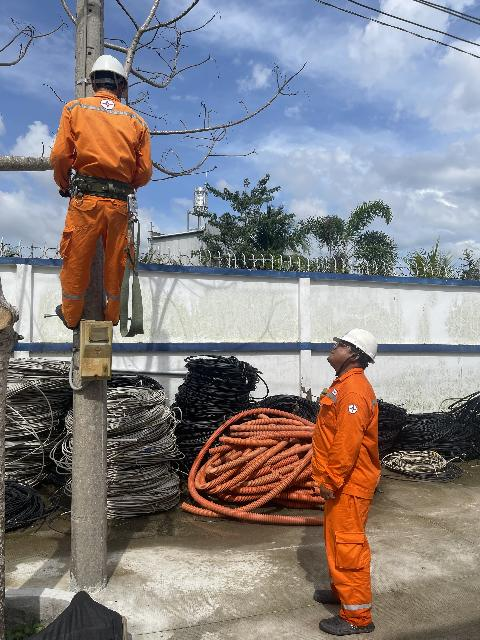harness: (62, 165, 141, 206)
helmet: (329, 317, 387, 366), (83, 51, 135, 97)
shoes: (310, 612, 384, 640), (50, 300, 88, 338), (306, 587, 379, 606)
